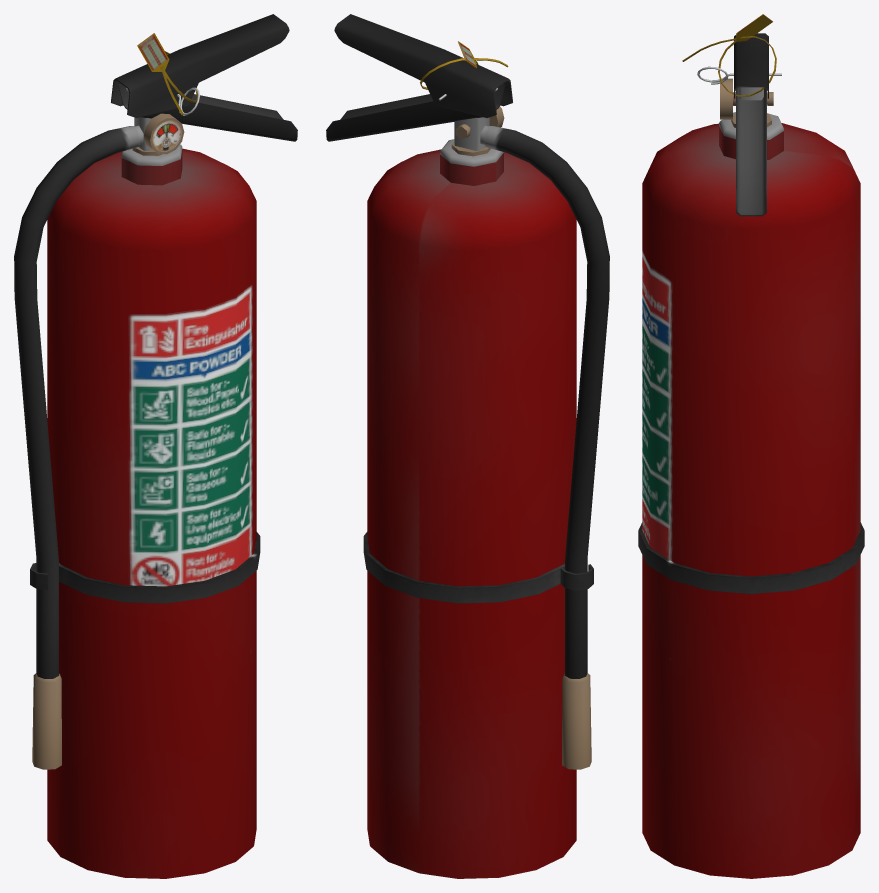
File: Extinguisher.FBX
The picture shows the model from 3 angles, left to right: view 1: azimuth 30°, elevation 25°; view 2: azimuth 150°, elevation 25°; view 3: azimuth 270°, elevation 25°; orthographic projection. The views are drawn at different scales.
Visible parts, largest first — view 1: Extinguisher_LOD0; view 2: Extinguisher_LOD0; view 3: Extinguisher_LOD0.
Boxes of the visible parts, bbox=[...] form: Extinguisher_LOD0: bbox=[14, 14, 297, 878]; Extinguisher_LOD0: bbox=[326, 14, 609, 878]; Extinguisher_LOD0: bbox=[638, 14, 864, 878].
Size of what is drawn, in the model's own units: 25.56 by 70.72 by 17.61.
